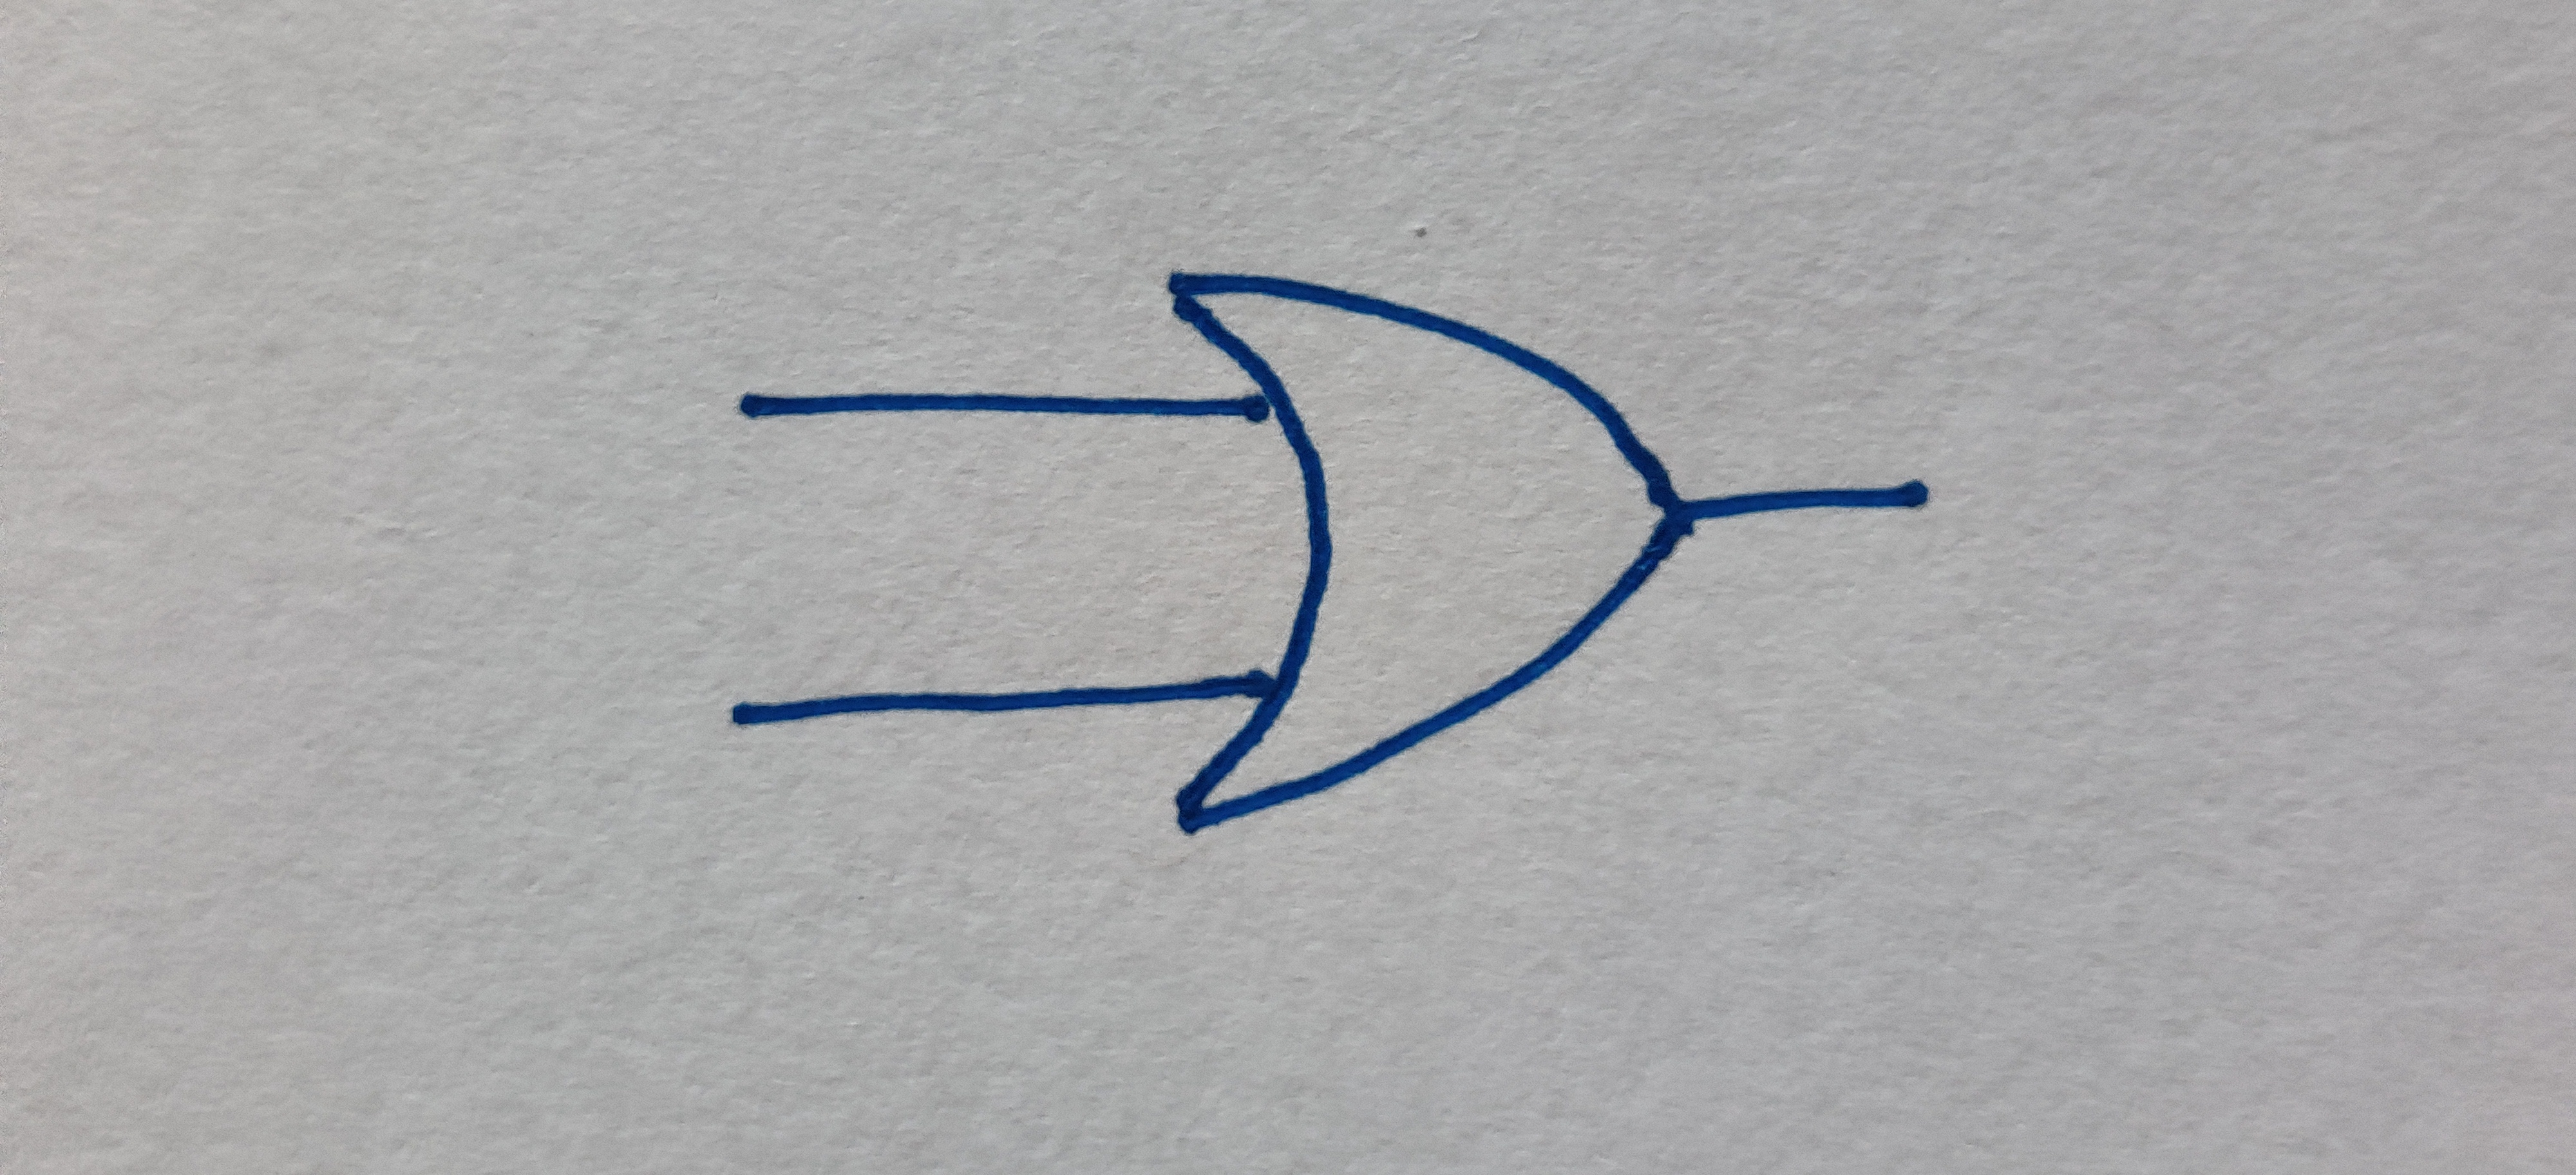or: (1166, 270, 1689, 833)
